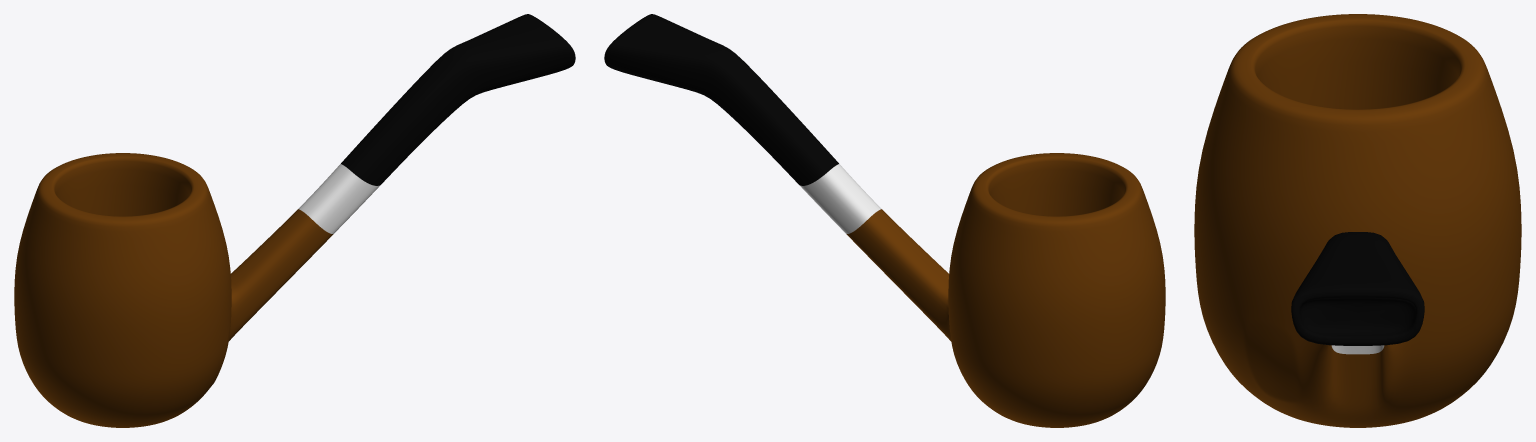
Rendered from Pipa 02.fbx.
3 views of the same model, side by side, from view 1: azimuth 30°, elevation 25°; view 2: azimuth 150°, elevation 25°; view 3: azimuth 270°, elevation 25° (orthographic). The views are drawn at different scales.
Visible parts, largest first — view 1: Circle; view 2: Circle; view 3: Circle.
Part boxes in pixels (x1,y1,x2,y2): Circle: (14, 14, 575, 427); Circle: (604, 14, 1165, 427); Circle: (1194, 14, 1521, 427).
Size of the model in its own units: 721 by 362 by 257.
